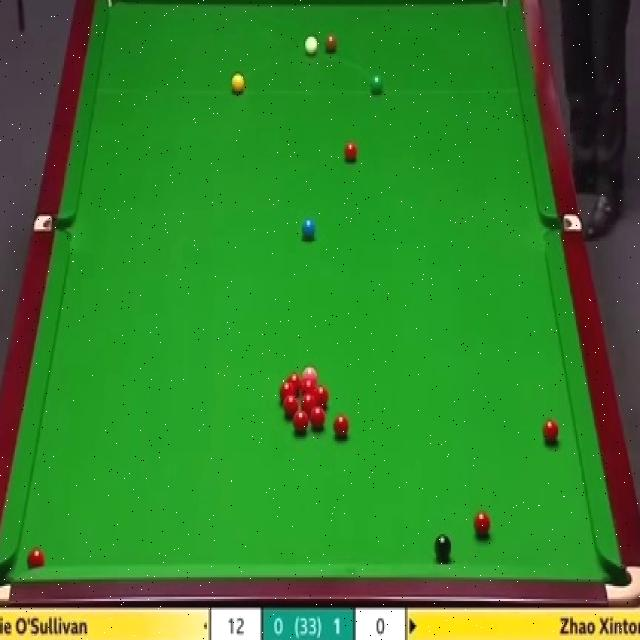black-ball: (434, 534, 452, 560)
blue-ball: (300, 218, 316, 242)
brown-ball: (326, 35, 338, 50)
green-ball: (370, 74, 384, 94)
pink-ball: (302, 367, 318, 378)
red-ball: (474, 511, 491, 536), (309, 405, 326, 429), (282, 395, 298, 418), (26, 548, 44, 568), (334, 415, 349, 437), (544, 419, 558, 442), (293, 411, 308, 432), (316, 386, 330, 408), (344, 140, 357, 163), (287, 372, 302, 390), (277, 382, 294, 397), (304, 376, 316, 393), (301, 396, 316, 408)
white-ball: (303, 36, 318, 57)
yellow-ball: (231, 74, 244, 94)
